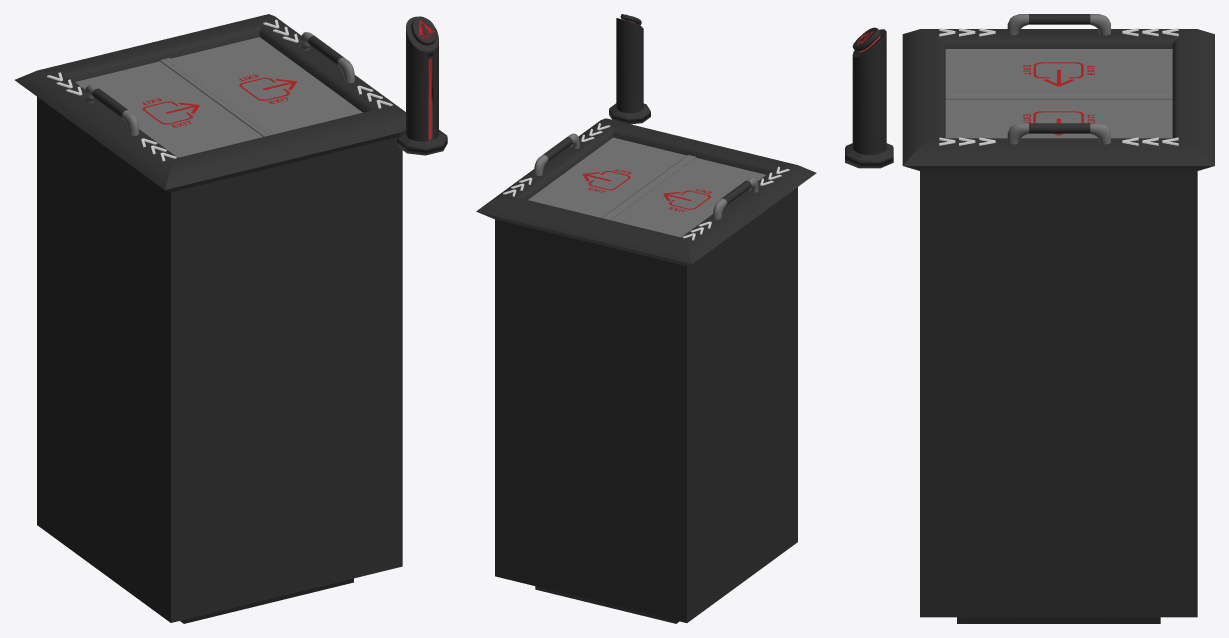
File: elevator_exit.glb
3 renders of one model, left to right at view 1: azimuth 30°, elevation 25°; view 2: azimuth 150°, elevation 25°; view 3: azimuth 270°, elevation 25°, orthographic. The views are drawn at different scales.
Parts seen in each view (by area): view 1: elevator_exit; view 2: elevator_exit; view 3: elevator_exit.
Boxes of the visible parts, left/top/right/bottom form: elevator_exit: left=15, top=14, right=447, bottom=623; elevator_exit: left=476, top=14, right=816, bottom=623; elevator_exit: left=845, top=14, right=1214, bottom=623.
Size of the model in its own units: 1.85 by 3.96 by 2.18.
Materials: 3 (2 with a texture image).
